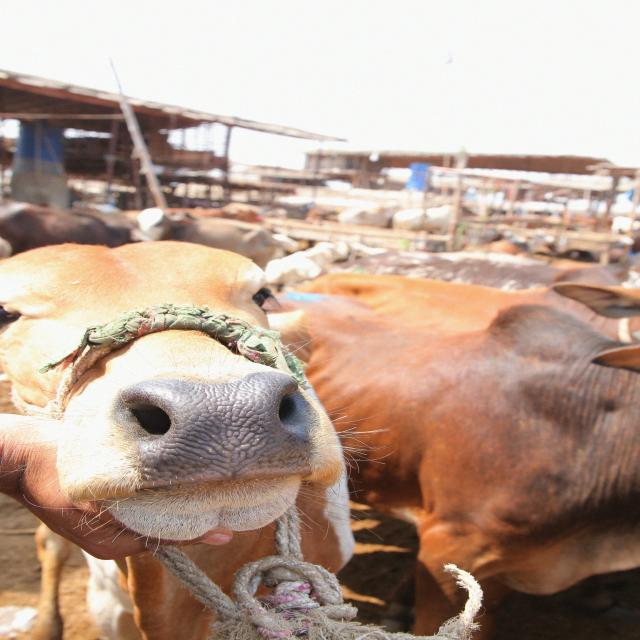muzzles: (111, 369, 318, 486)
